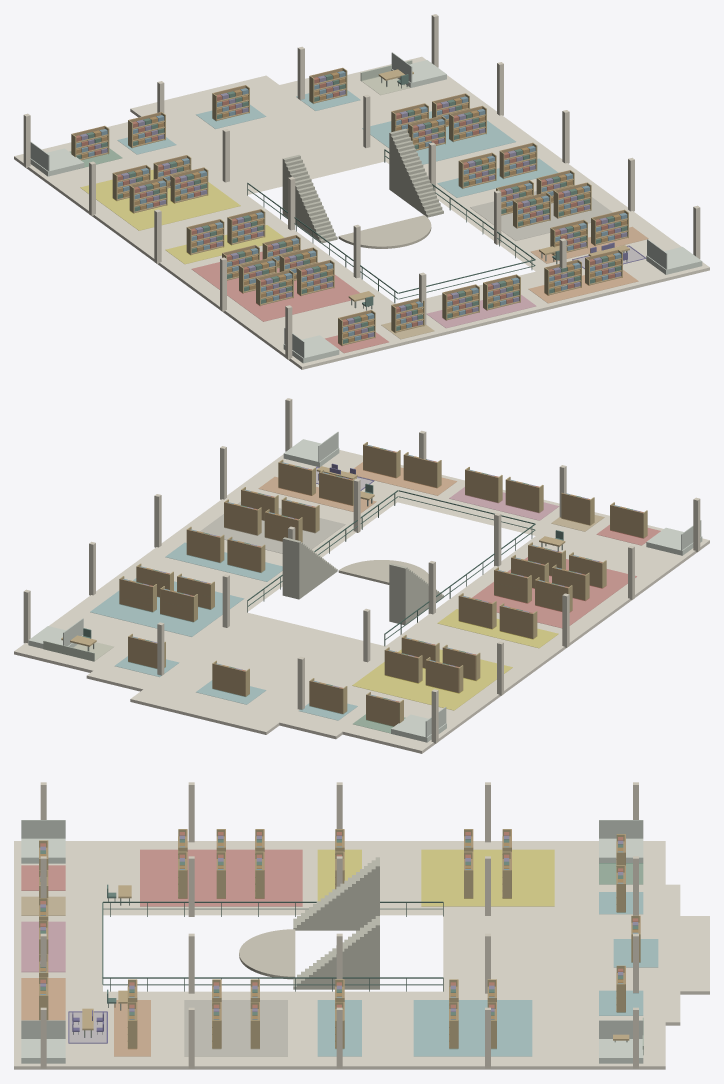
The model's file is 图书馆_4楼_试点启用.glb.
3 views of the same model, one above another, from view 1: azimuth 30°, elevation 25°; view 2: azimuth 150°, elevation 25°; view 3: azimuth 270°, elevation 25° (orthographic). The views are drawn at different scales.
Parts seen in each view (by area): view 1: guide_outline_floor_slab, guide_function_tint (×10), corner_service_room (×4), photo_guided_curved_landing; view 2: guide_outline_floor_slab, rack_back (×34), guide_function_tint (×10), corner_service_room (×3), central_stair_tread (×2), photo_guided_curved_landing; view 3: guide_outline_floor_slab, guide_function_tint (×15), corner_service_room (×4), service_partition (×4), photo_guided_curved_landing, atrium_rail_top (×2), atrium_rail_lower (×2), proposed_candidate_zone.
Part boxes in pixels (box(x1,y1,x2,y2)): guide_outline_floor_slab: box(14, 56, 709, 369); guide_function_tint (×10): box(80, 105, 648, 328); corner_service_room (×4): box(30, 60, 702, 363); photo_guided_curved_landing: box(338, 215, 431, 248); guide_outline_floor_slab: box(14, 450, 709, 753); rack_back (×34): box(119, 444, 643, 726); guide_function_tint (×10): box(90, 462, 636, 710); corner_service_room (×3): box(283, 439, 702, 742); central_stair_tread (×2): box(282, 537, 407, 625); photo_guided_curved_landing: box(338, 560, 428, 584); guide_outline_floor_slab: box(14, 841, 709, 1069); guide_function_tint (×15): box(21, 849, 658, 1056); corner_service_room (×4): box(21, 838, 643, 1063); service_partition (×4): box(21, 820, 643, 1038); photo_guided_curved_landing: box(239, 929, 295, 979); atrium_rail_top (×2): box(103, 901, 443, 978); atrium_rail_lower (×2): box(103, 908, 442, 985); proposed_candidate_zone: box(69, 1012, 106, 1042).
Size of the model in its own units: 36.4 by 4.9 by 47.
